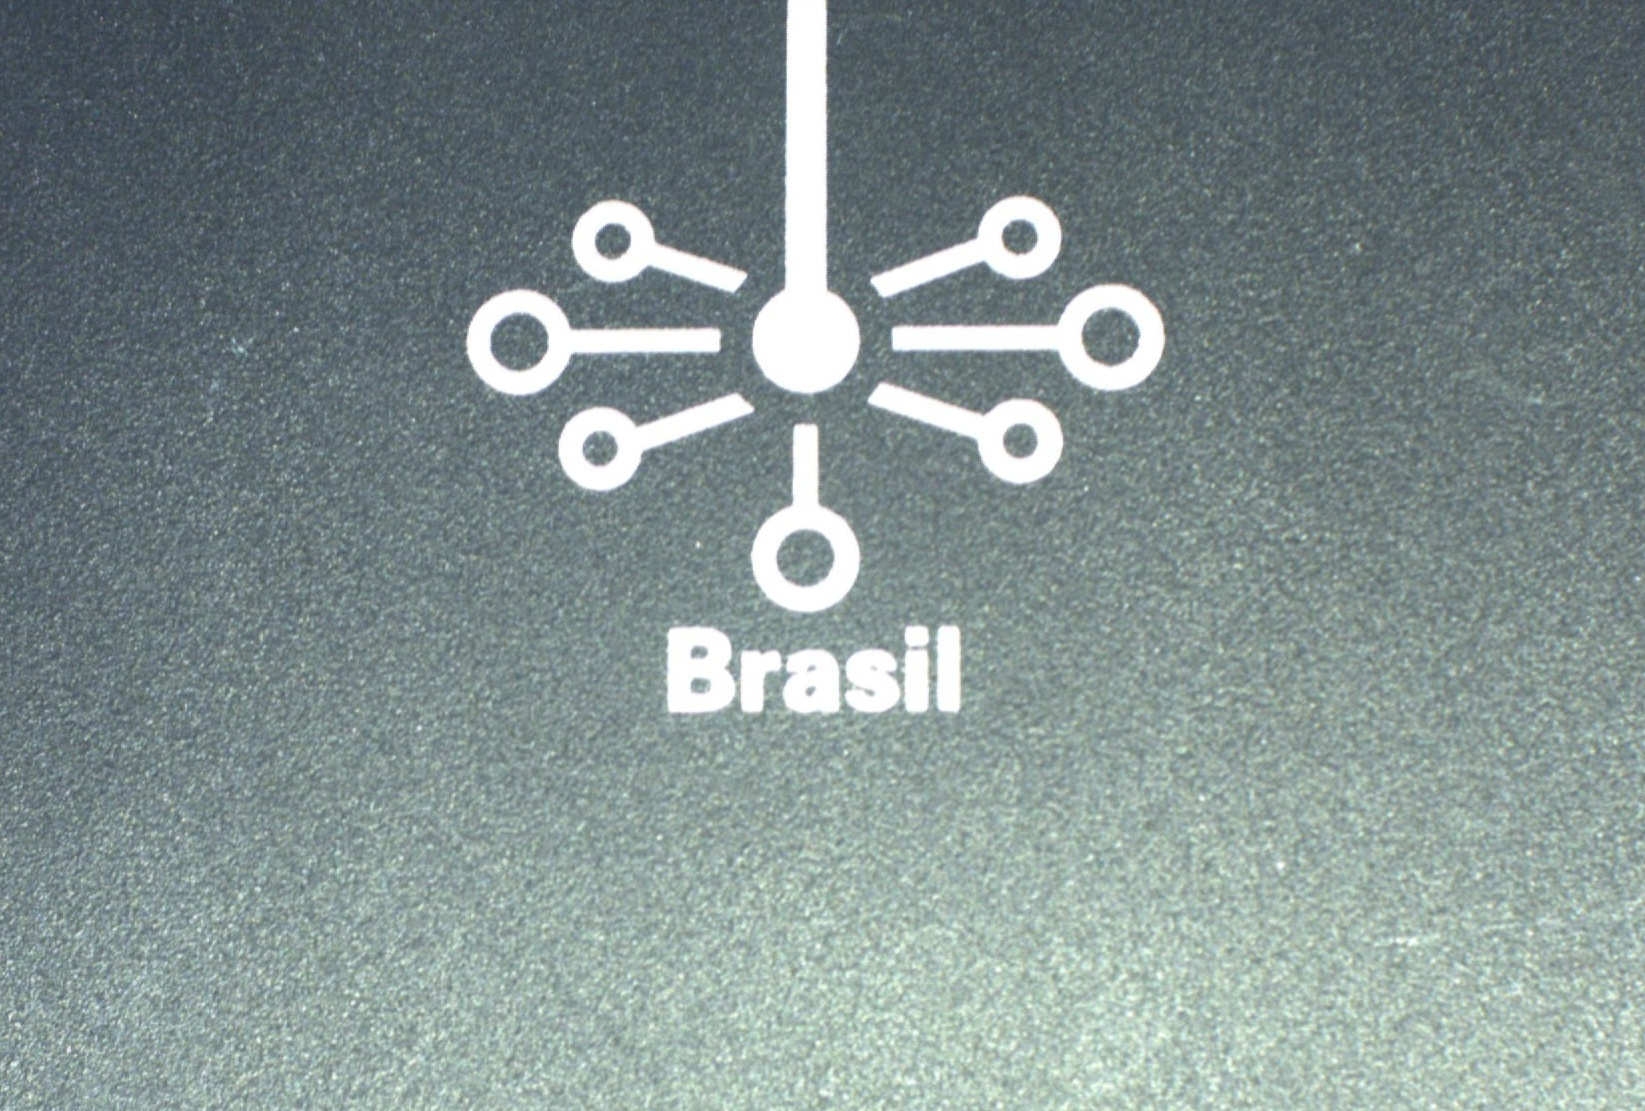BO_Brsail: (438, 1, 1183, 732)
